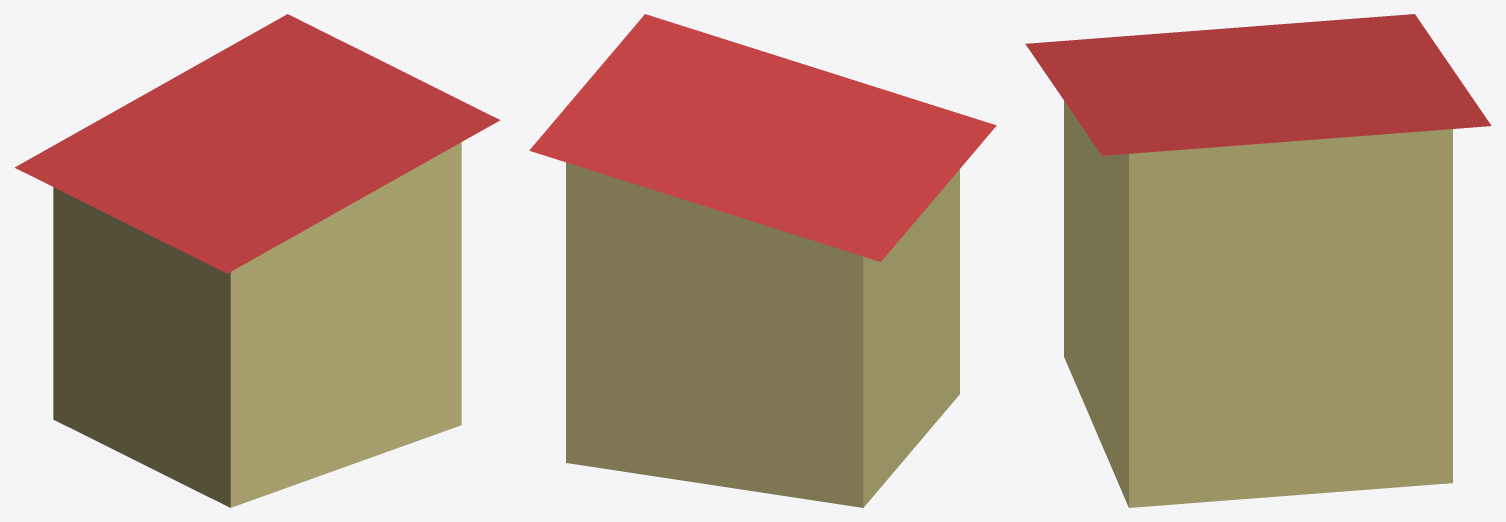
3 views of the same model, side by side, from view 1: azimuth 30°, elevation 25°; view 2: azimuth 150°, elevation 25°; view 3: azimuth 270°, elevation 25° (orthographic). The views are drawn at different scales.
Size of the model in its own units: 7.43 by 7.01 by 6.11.
